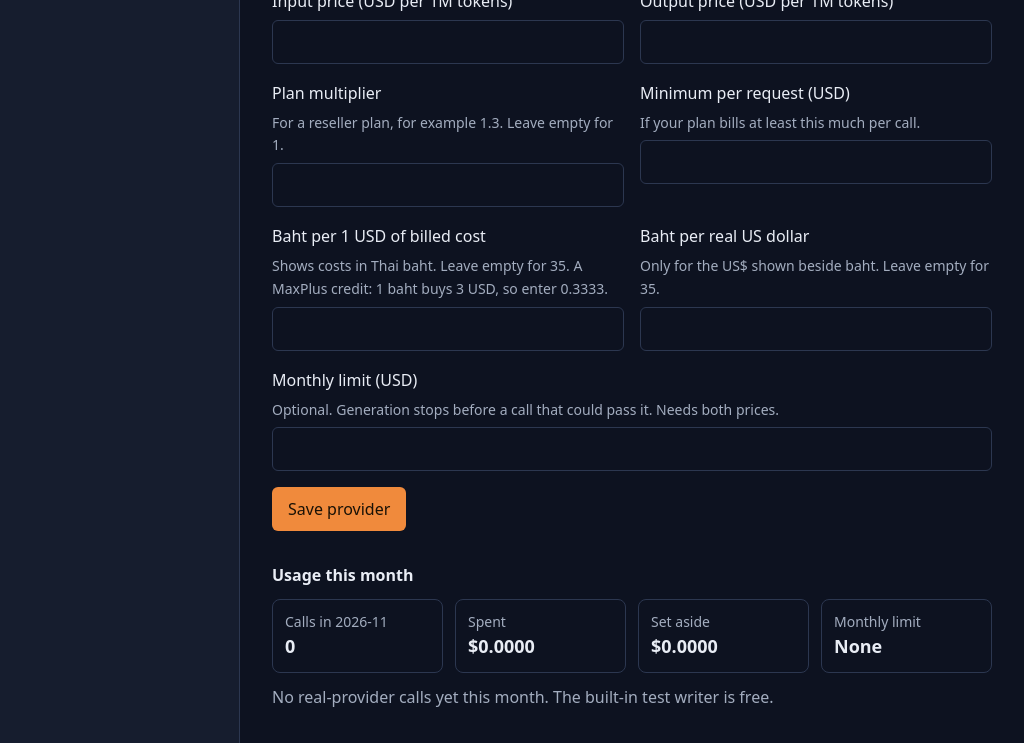
Test: Settings: text provider › shows validation messages and sends nothing for a bad form
The width and height of the screenshot is (1024, 743).
(page scrolled)
Click the button "Save provider".
click(339, 509)  # box [272,487,406,531]
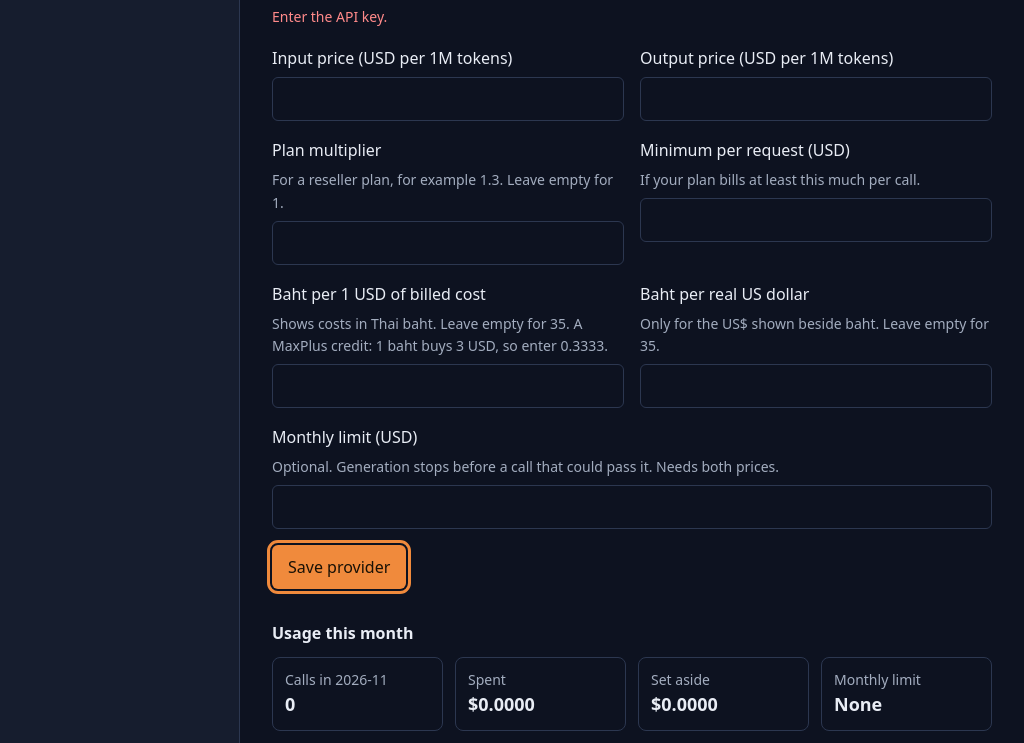
Now the text "Enter the API key." is shown, box [272,7,387,26]
